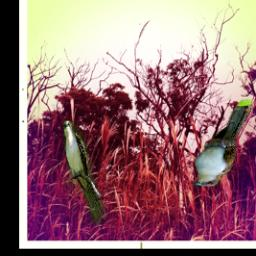Cuckoo: (192, 99, 254, 186), (64, 121, 109, 225)
